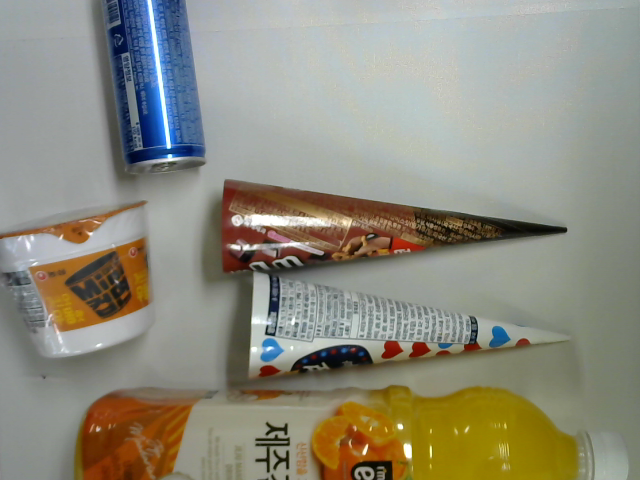Bravo_Cone_(Banila)_CVS: (246, 272, 575, 384)
Jeju_Tangerine_1.5L: (74, 380, 633, 480)
Pepsi_Cola_Can_250ml: (95, 1, 208, 176)
Udongmini: (1, 197, 157, 361)
World_Cone_Choco: (220, 176, 568, 278)
